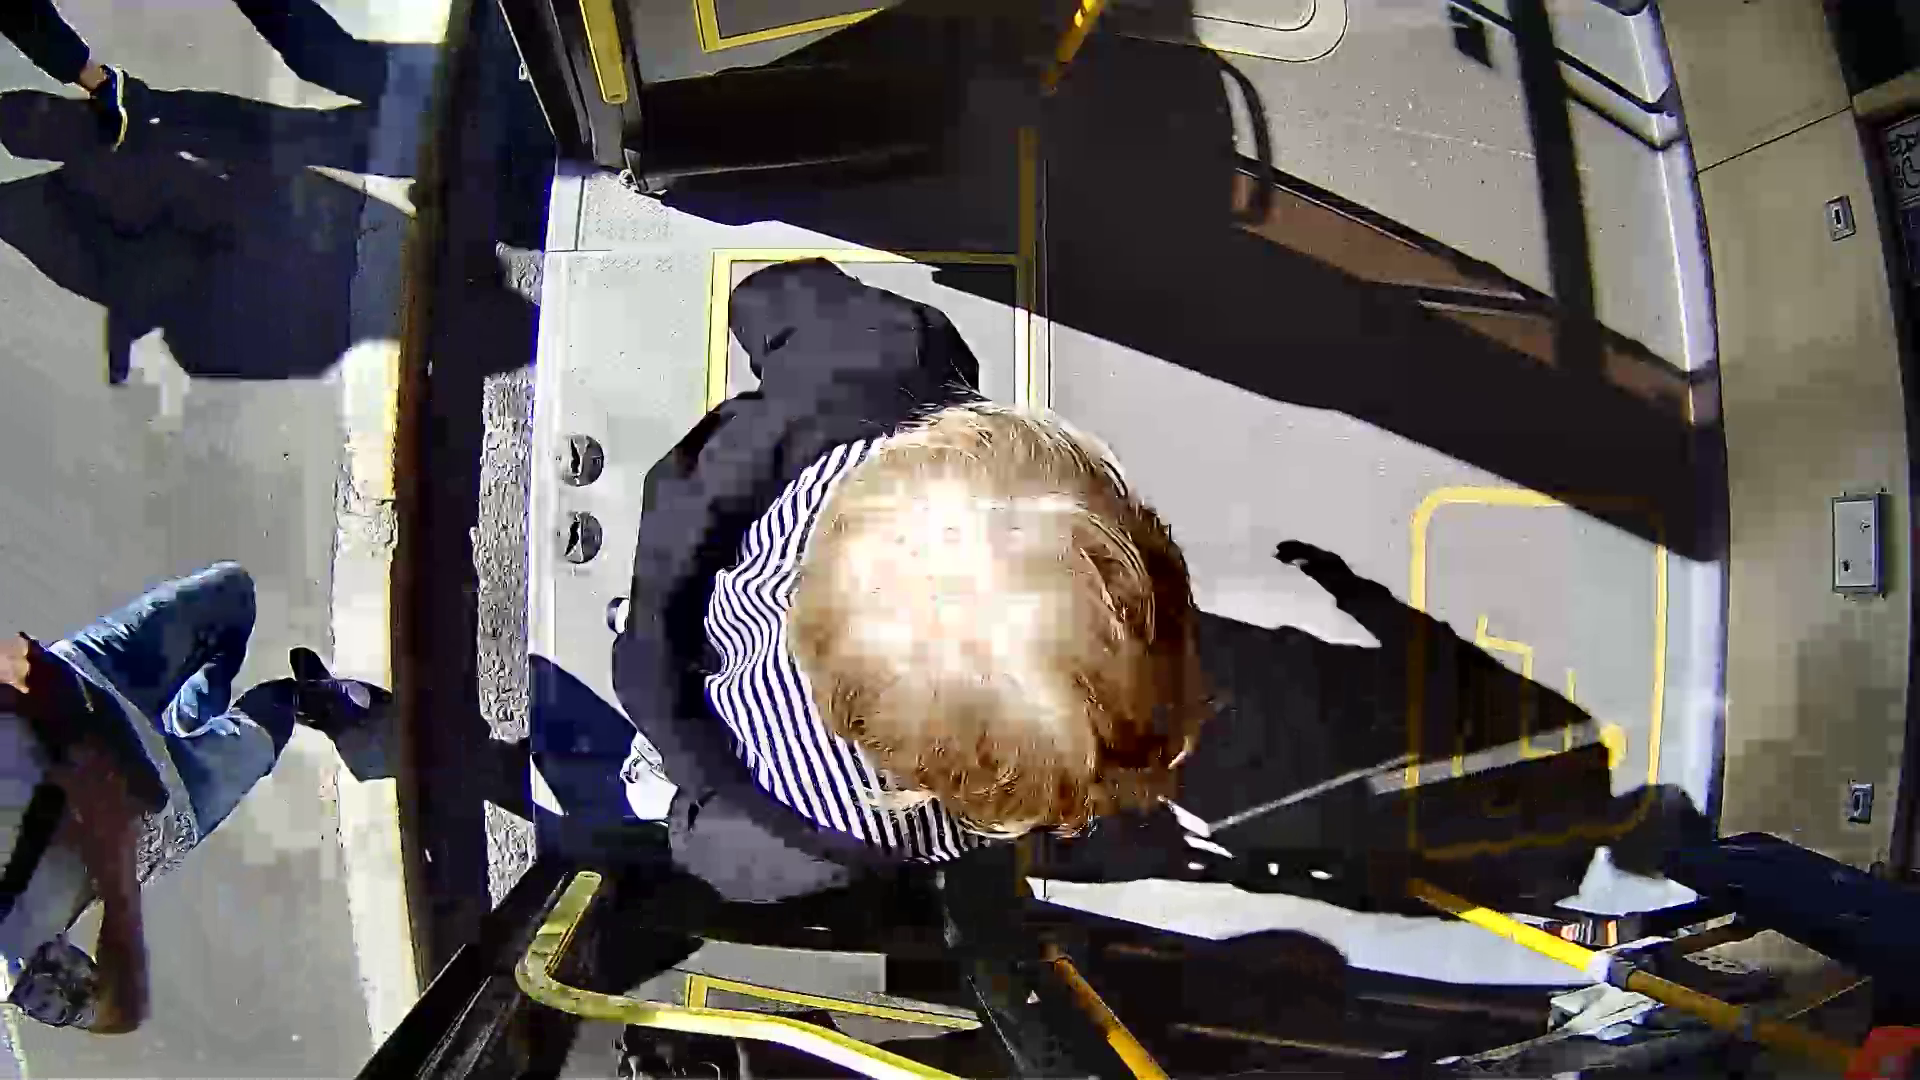person: (527, 291, 1279, 923)
